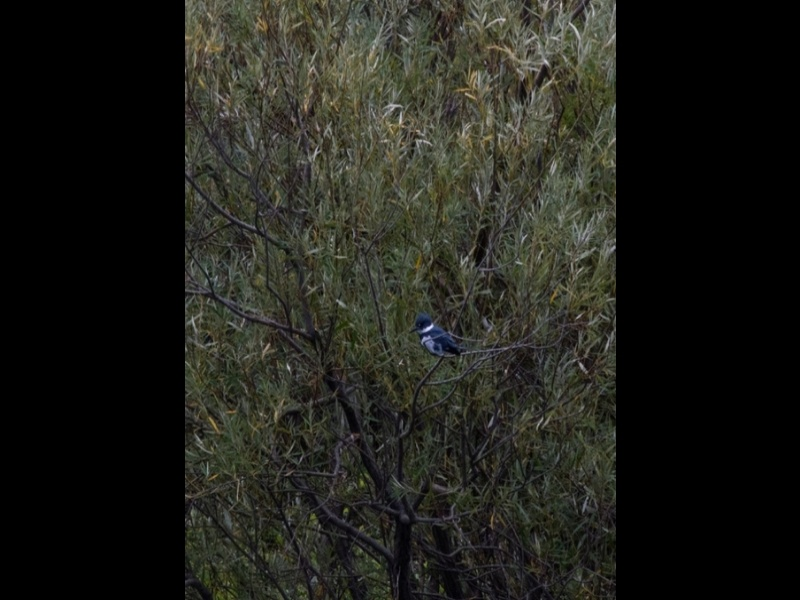kingfisher: (410, 313, 464, 359)
